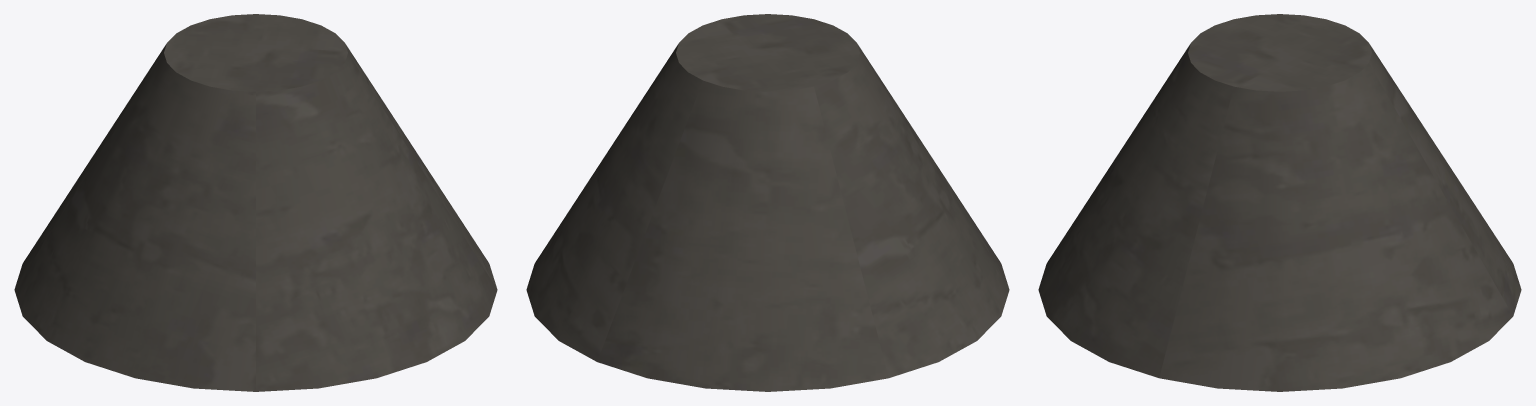
The model's file is Part - Simlpe form 11-D6_gxj5Q.glb.
3 renders of one model, left to right at view 1: azimuth 30°, elevation 25°; view 2: azimuth 150°, elevation 25°; view 3: azimuth 270°, elevation 25°, orthographic.
Parts seen in each view (by area): view 1: Simlpe_form_11; view 2: Simlpe_form_11; view 3: Simlpe_form_11.
Boxes of the visible parts, bbox=[...] form: Simlpe_form_11: bbox=[14, 14, 497, 391]; Simlpe_form_11: bbox=[526, 14, 1009, 391]; Simlpe_form_11: bbox=[1038, 14, 1521, 391].
Size of the model in its own units: 1 by 0.5412 by 1.
1 material, 1 textured.
